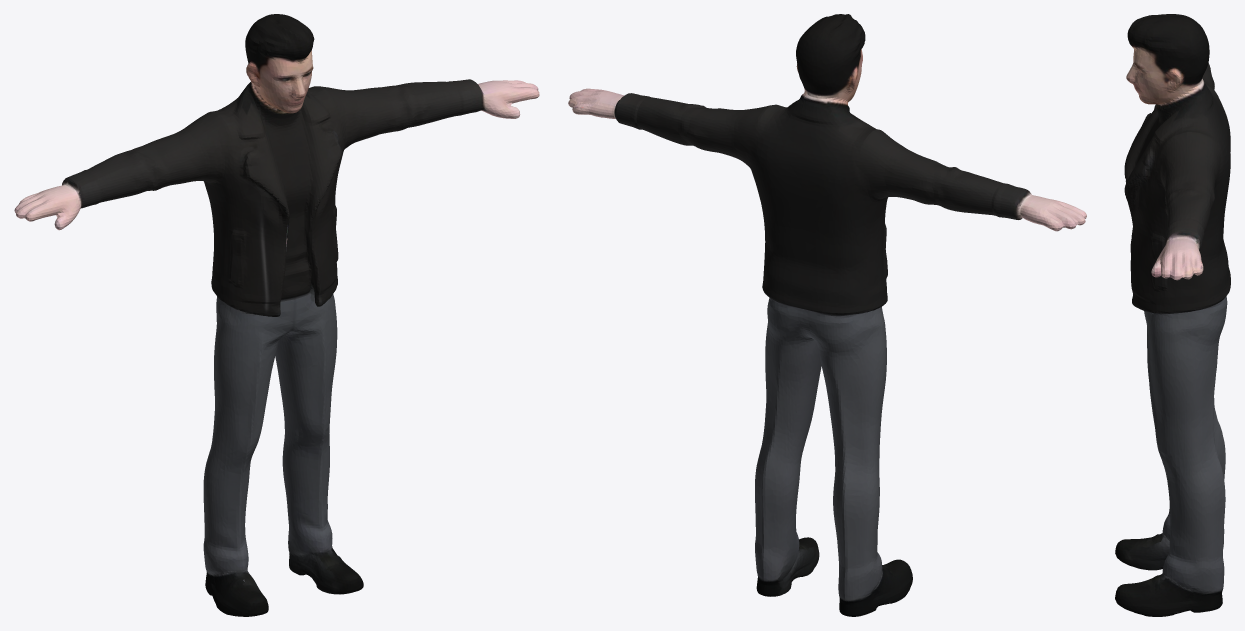
The model's file is alamy.glb.
3 renders of one model, left to right at view 1: azimuth 30°, elevation 25°; view 2: azimuth 150°, elevation 25°; view 3: azimuth 270°, elevation 25°, orthographic.
Parts seen in each view (by area): view 1: tmpecr8oiz8.ply; view 2: tmpecr8oiz8.ply; view 3: tmpecr8oiz8.ply.
Boxes of the visible parts, left/top/right/bottom form: tmpecr8oiz8.ply: left=14, top=14, right=539, bottom=616; tmpecr8oiz8.ply: left=568, top=14, right=1086, bottom=616; tmpecr8oiz8.ply: left=1115, top=14, right=1230, bottom=616.
Bounding box in the file's own units: 1.89 × 1.99 × 0.3671.
1 material, 1 textured.
